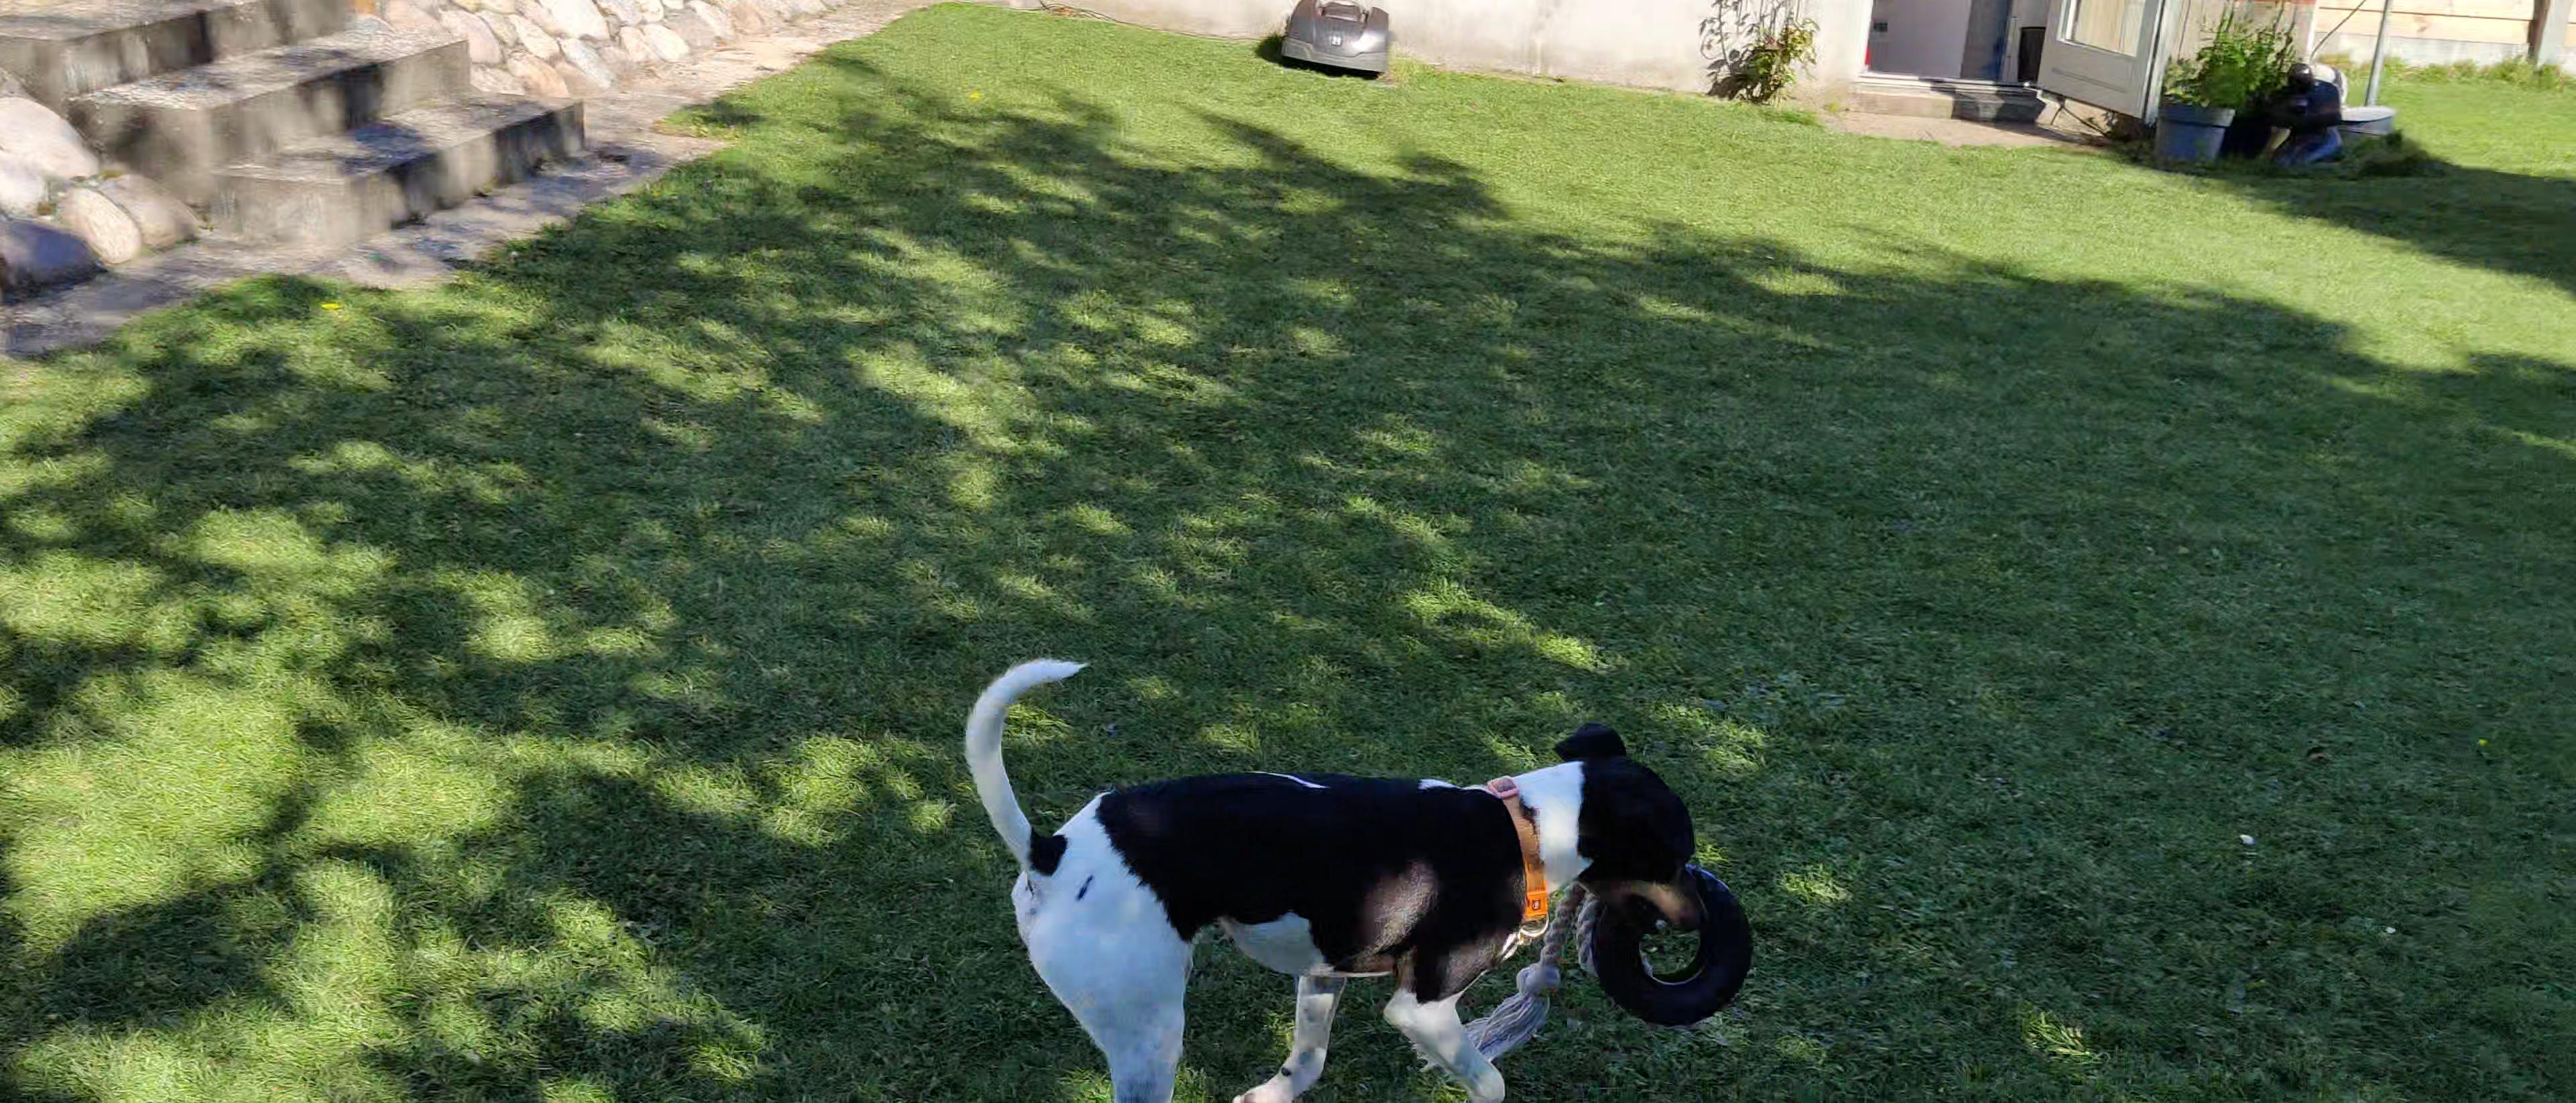Dog: (948, 641, 1717, 1103)
